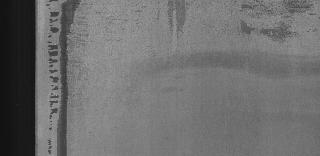oil spot: (46, 1, 82, 153), (236, 2, 320, 46), (153, 0, 205, 38)
